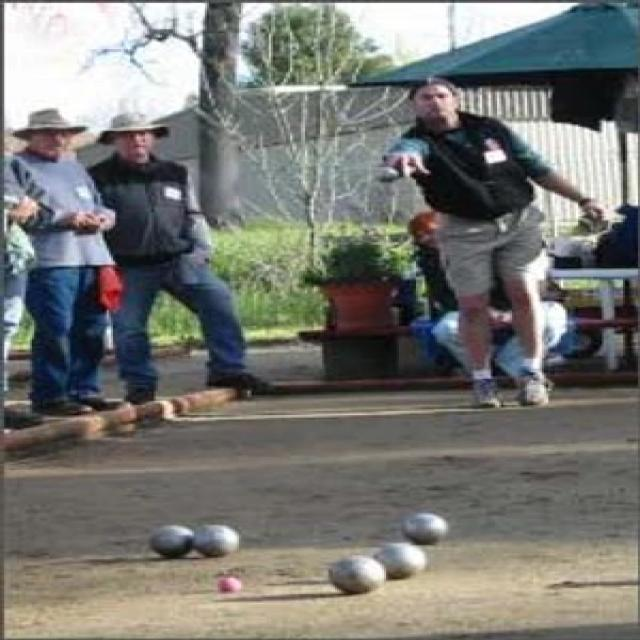hatball: (215, 574, 248, 593)
petanque: (319, 554, 392, 603), (151, 517, 197, 567), (376, 541, 429, 582), (396, 510, 454, 545), (190, 523, 245, 558)
